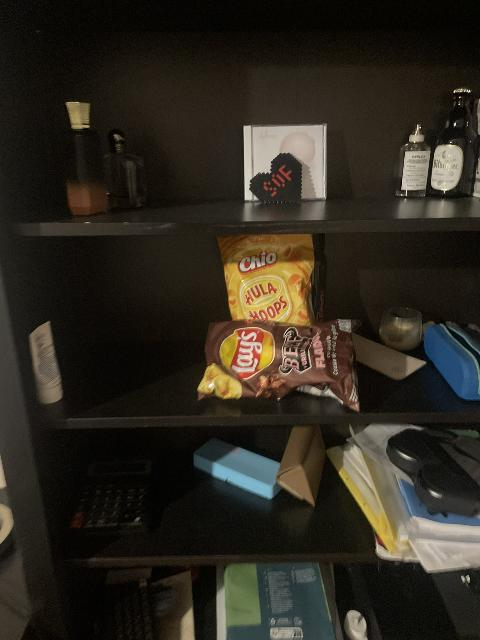Chio Hula Hoops Cheese 70g: (217, 237, 320, 323)
Lays Beef Grilled Ribs 125g: (202, 319, 361, 405)
